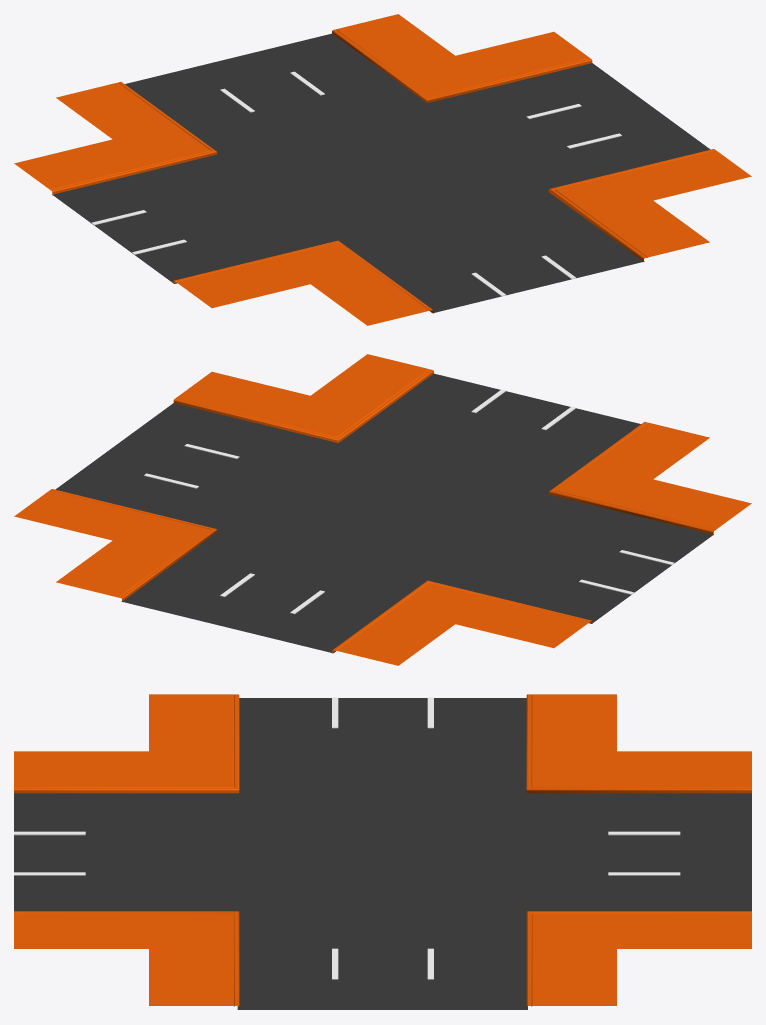
The model's file is SM_Road_Cross.fbx.
The picture shows the model from 3 angles, top to bottom: view 1: azimuth 30°, elevation 25°; view 2: azimuth 150°, elevation 25°; view 3: azimuth 270°, elevation 25°; orthographic projection. The views are drawn at different scales.
Visible parts, largest first — view 1: Box083, Sideroad014, Sideroad010, Sideroad013, Sideroad012, SM_Road_Cross; view 2: Box083, Sideroad013, Sideroad012, Sideroad014, Sideroad010, SM_Road_Cross; view 3: Box083, Sideroad010, Sideroad012, Sideroad013, Sideroad014, SM_Road_Cross.
Boxes of the visible parts, left/top/right/bottom form: Box083: left=52, top=33, right=710, bottom=313; Sideroad014: left=332, top=14, right=592, bottom=103; Sideroad010: left=14, top=82, right=217, bottom=194; Sideroad013: left=548, top=149, right=751, bottom=261; Sideroad012: left=173, top=240, right=433, bottom=325; SM_Road_Cross: left=91, top=71, right=621, bottom=296; Box083: left=55, top=373, right=713, bottom=653; Sideroad013: left=173, top=354, right=433, bottom=443; Sideroad012: left=548, top=422, right=751, bottom=534; Sideroad014: left=14, top=489, right=217, bottom=601; Sideroad010: left=332, top=580, right=592, bottom=665; SM_Road_Cross: left=144, top=389, right=674, bottom=614; Box083: left=14, top=698, right=751, bottom=1009; Sideroad010: left=526, top=694, right=751, bottom=793; Sideroad012: left=14, top=694, right=239, bottom=793; Sideroad013: left=14, top=911, right=239, bottom=1006; Sideroad014: left=526, top=911, right=751, bottom=1006; SM_Road_Cross: left=14, top=697, right=680, bottom=979.
Size of the model in its own units: 2930 by 20.23 by 2930.
